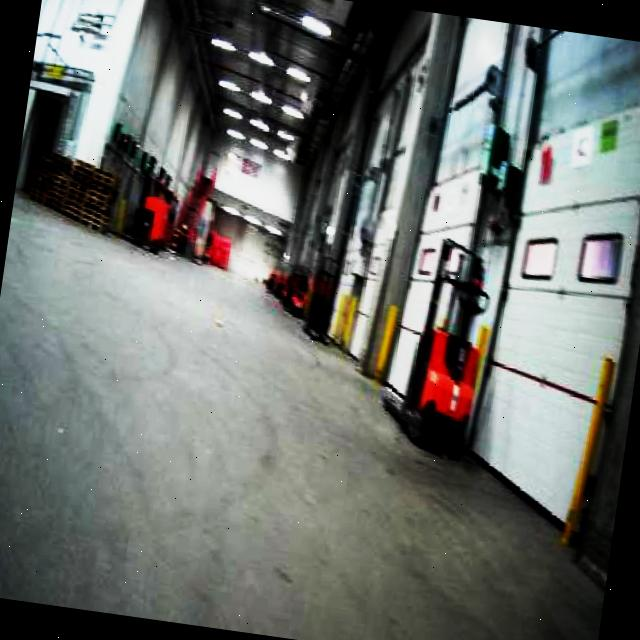ground: (0, 181, 640, 640)
pallet: (20, 143, 121, 235)
